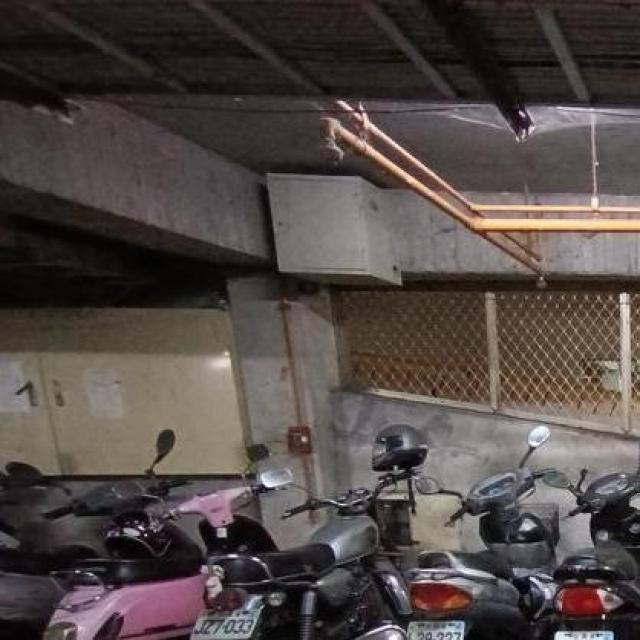W: (187, 603, 260, 640), (403, 612, 470, 640), (548, 620, 619, 640)
